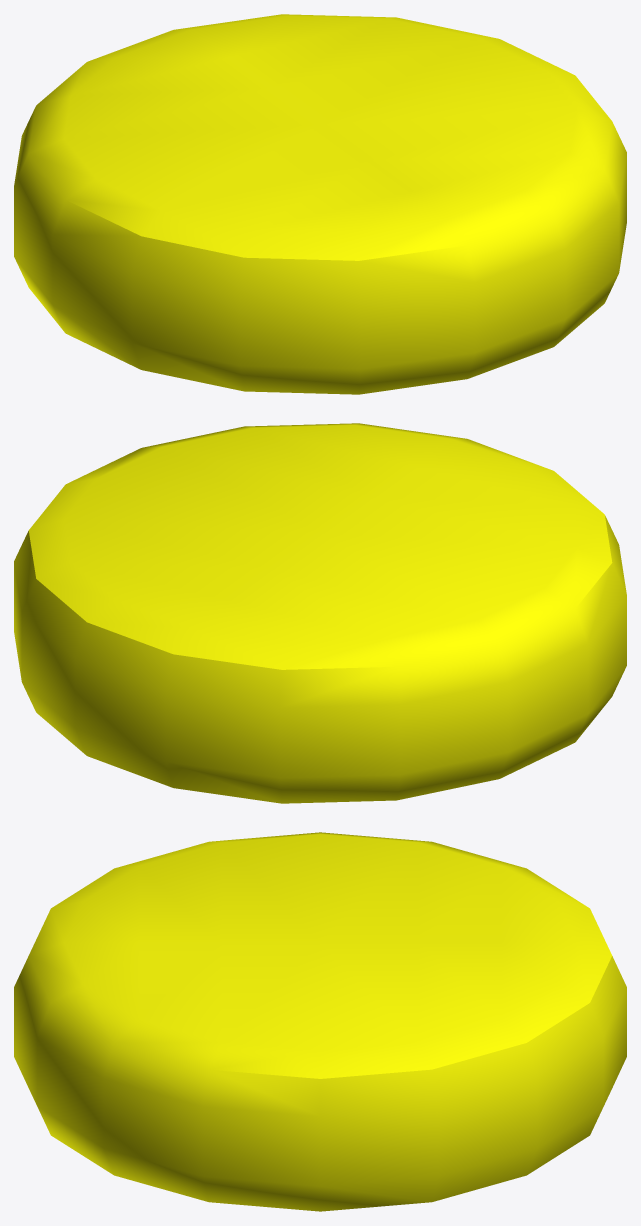
The model's file is food_ingredient_burger_uncooked.gltf.
The picture shows the model from 3 angles, top to bottom: view 1: azimuth 30°, elevation 25°; view 2: azimuth 150°, elevation 25°; view 3: azimuth 270°, elevation 25°; orthographic projection.
Parts seen in each view (by area): view 1: food_ingredient_burger_uncooked; view 2: food_ingredient_burger_uncooked; view 3: food_ingredient_burger_uncooked.
Part boxes in pixels (x1,y1,x2,y2): food_ingredient_burger_uncooked: (14,14,626,394); food_ingredient_burger_uncooked: (14,423,626,803); food_ingredient_burger_uncooked: (14,832,626,1211).
Bounding box in the file's own units: 0.7 × 0.2 × 0.7.
Materials: 1 (1 with a texture image).
